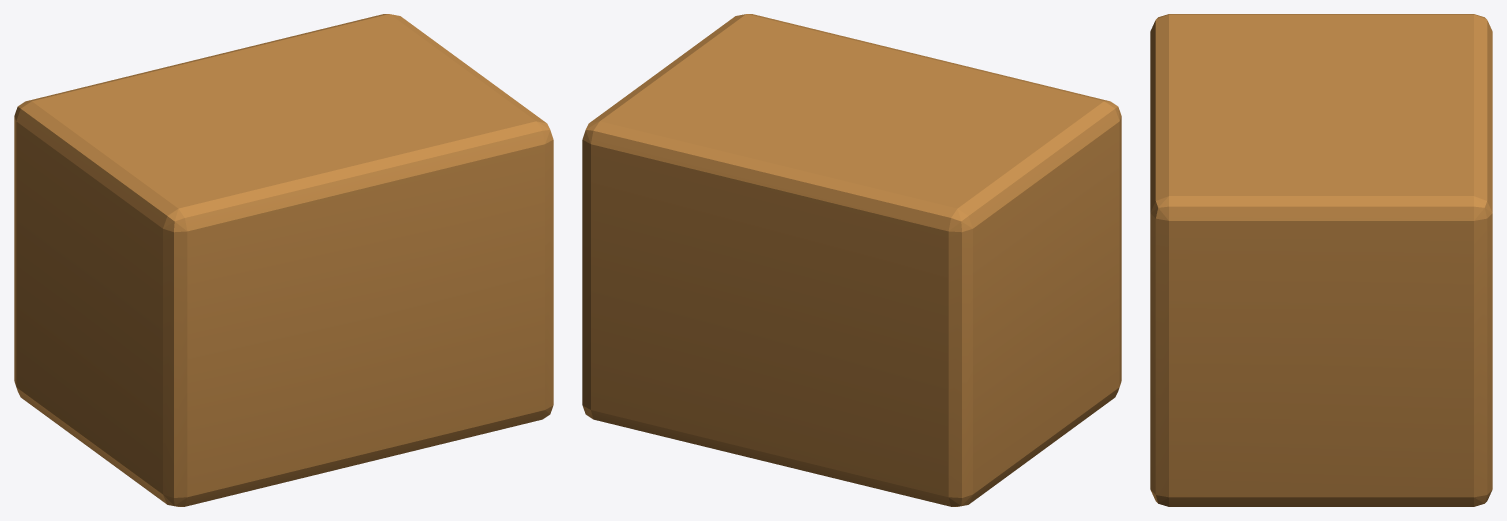
File: tee_marker_block_gold.glb
3 renders of one model, left to right at view 1: azimuth 30°, elevation 25°; view 2: azimuth 150°, elevation 25°; view 3: azimuth 270°, elevation 25°, orthographic. The views are drawn at different scales.
Parts seen in each view (by area): view 1: Body; view 2: Body; view 3: Body.
Part boxes in pixels (left/top/right/bottom): Body: left=14, top=14, right=553, bottom=506; Body: left=582, top=14, right=1121, bottom=506; Body: left=1150, top=14, right=1492, bottom=506.
Bounding box in the file's own units: 0.3 × 0.22 × 0.22.
Materials: 1 (1 with a texture image).
